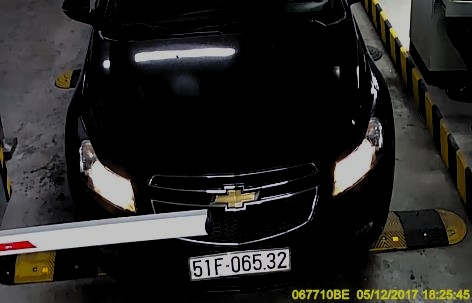plate: (183, 245, 297, 282)
